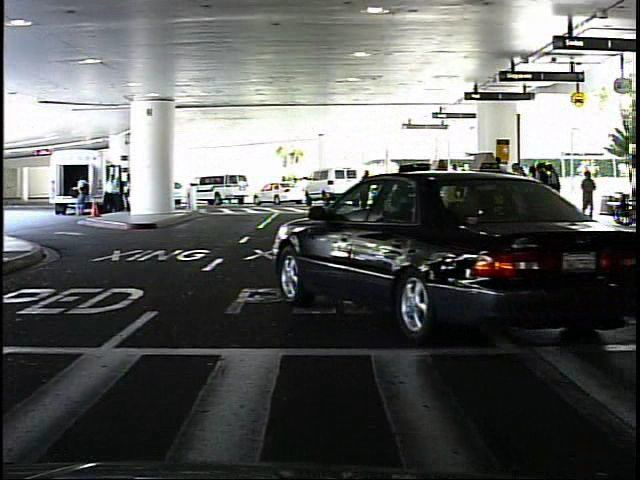person: (580, 165, 599, 223)
